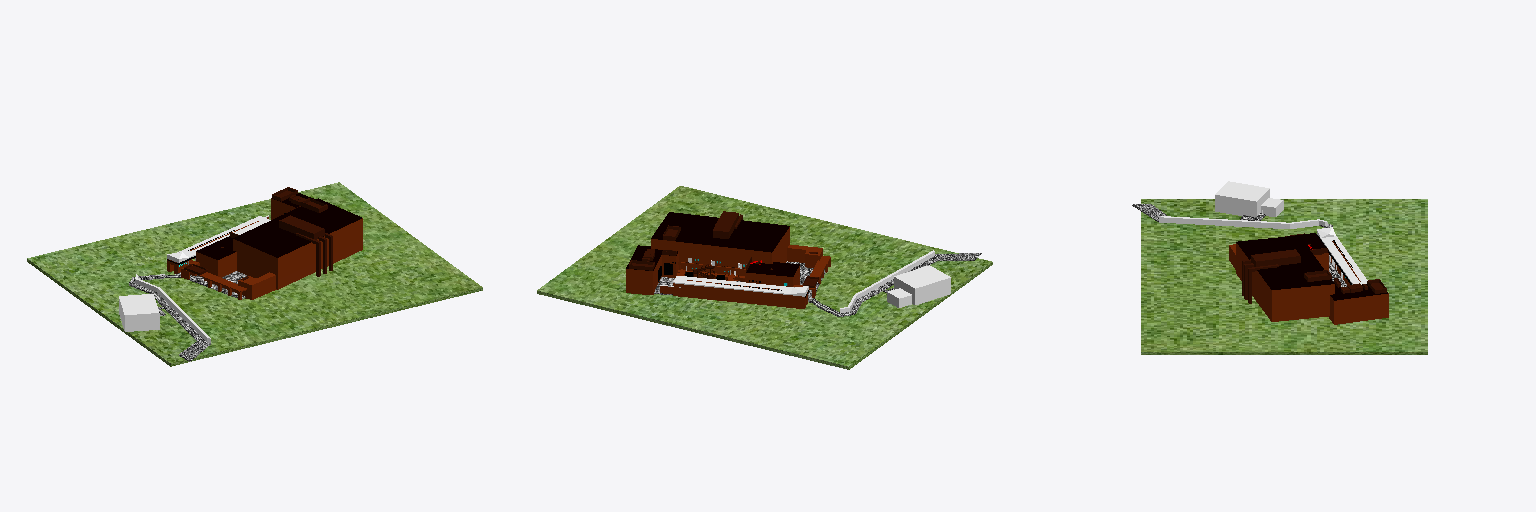
The picture shows the model from 3 angles: view 1: azimuth 30°, elevation 25°; view 2: azimuth 150°, elevation 25°; view 3: azimuth 270°, elevation 25°; orthographic projection.
Visible parts, largest first — view 1: polySurface441; view 2: polySurface441; view 3: polySurface441.
Boxes of the visible parts, box(x1,y1,x2,y2) form: polySurface441: box(27, 182, 482, 366); polySurface441: box(537, 186, 992, 369); polySurface441: box(1132, 181, 1427, 354).
Size of the model in its own units: 22.1 by 2.96 by 18.01.
Materials: 59 (2 with a texture image).